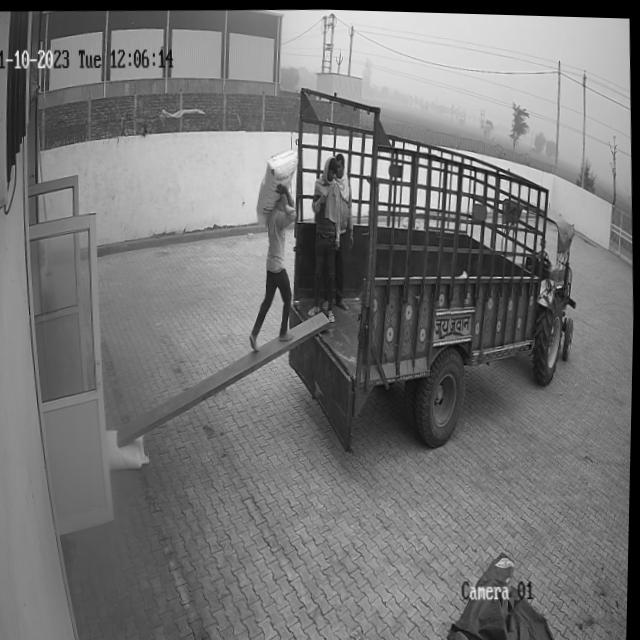sack: (254, 146, 302, 228), (106, 425, 151, 469)
